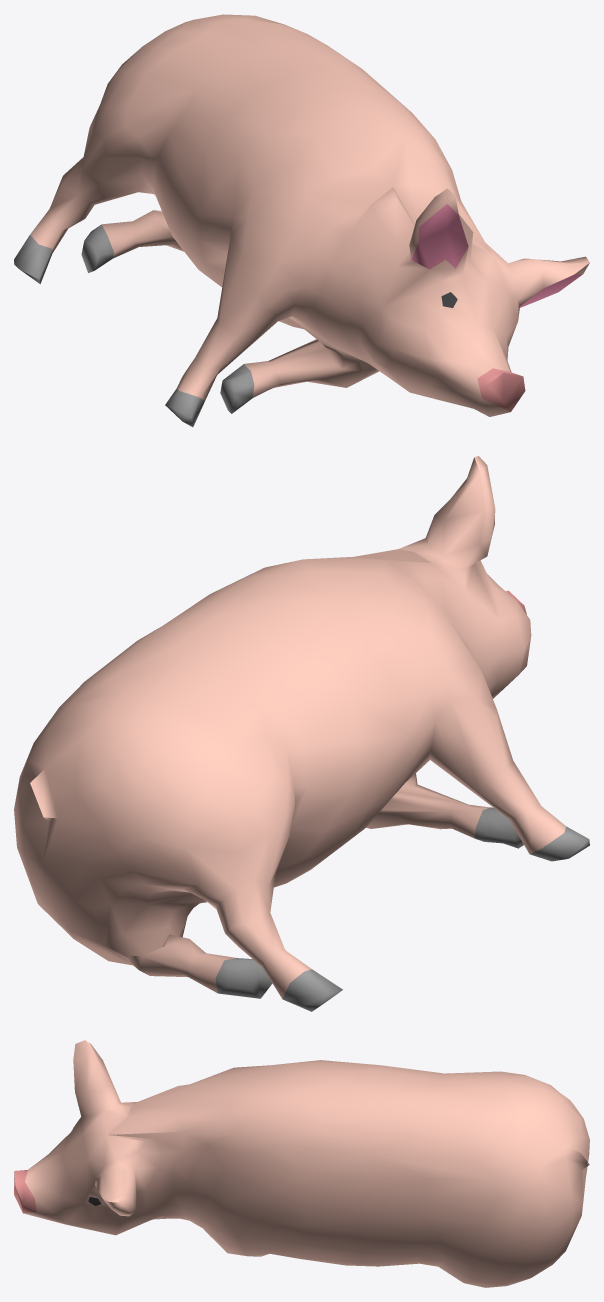
Rendered from pig_002.glb.
3 views of the same model, one above another, from view 1: azimuth 30°, elevation 25°; view 2: azimuth 150°, elevation 25°; view 3: azimuth 270°, elevation 25° (orthographic). The views are drawn at different scales.
Parts seen in each view (by area): view 1: pig_002; view 2: pig_002; view 3: pig_002.
Boxes of the visible parts, x1,y1,x2,y2 form: pig_002: [14, 14, 589, 426]; pig_002: [14, 456, 589, 1011]; pig_002: [14, 1040, 589, 1287].
Size of the model in its own units: 0.9593 by 0.7325 by 1.69.
Materials: 1 (1 with a texture image).
